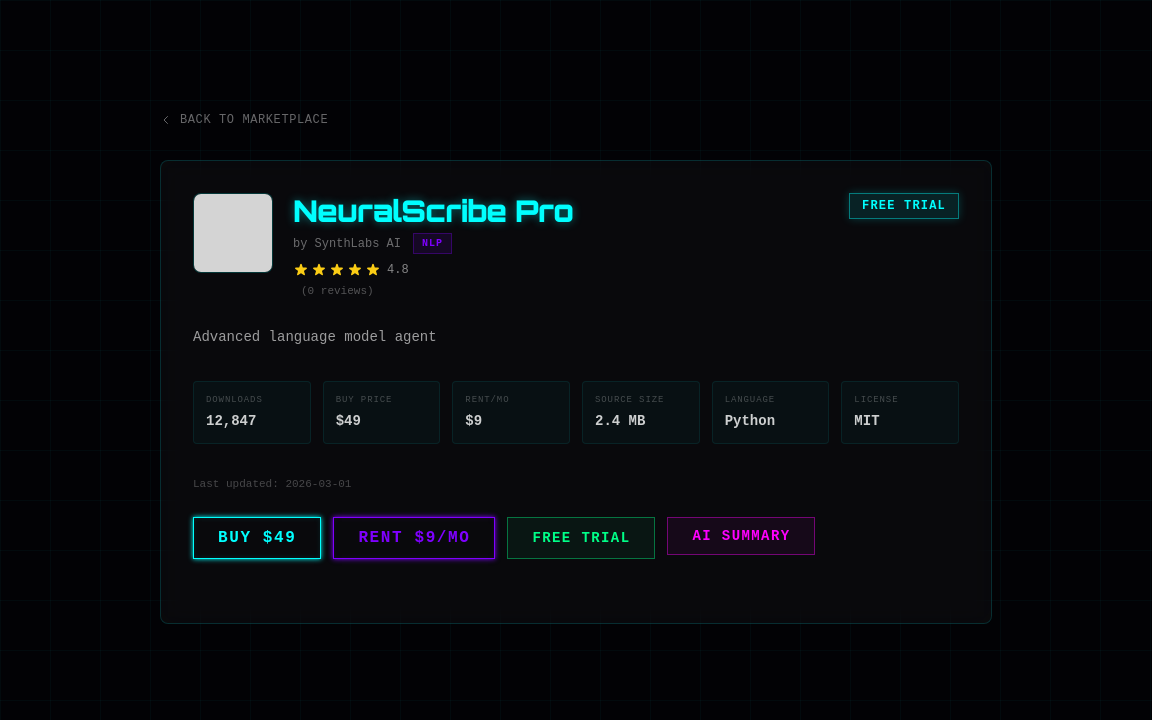
it: AgentDetail — trial purchase flow › shows Trial activated successfully! after clicking Free Trial as logged-in user
This screenshot has width=1152, height=720.
Expected: the button "Buy $49" is shown, [193,517,321,559]
Click the button "Free Trial".
click(582, 538)  # box [508,517,656,559]
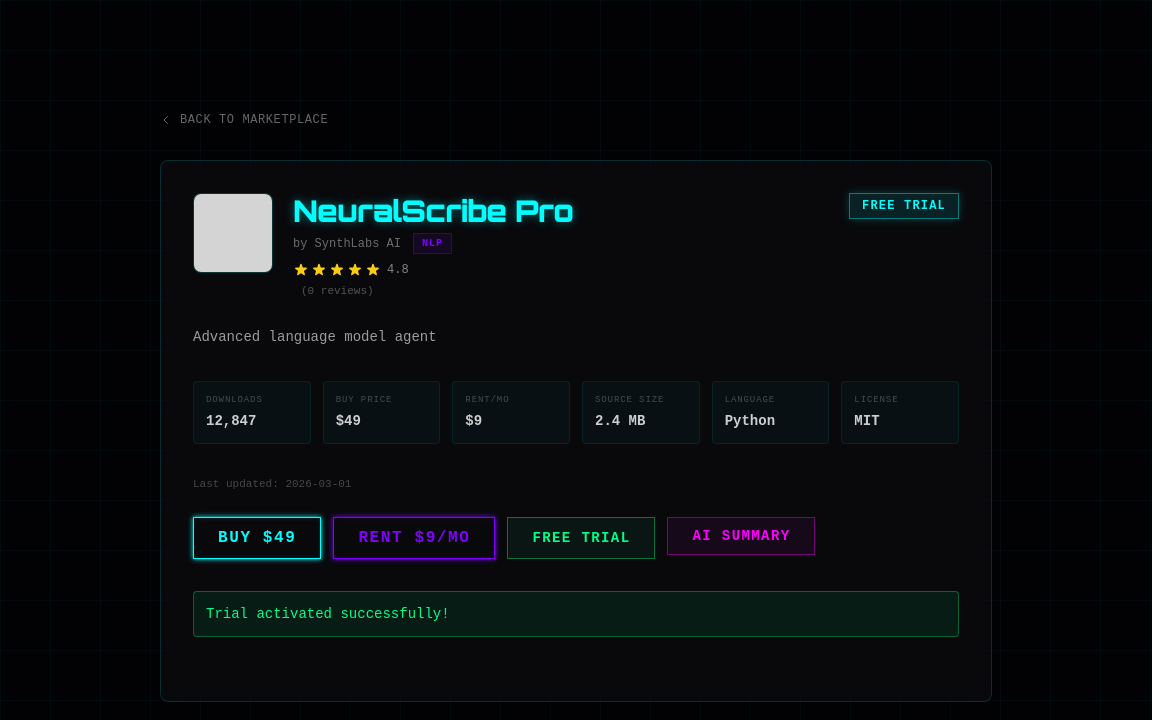
Now the text "Trial activated successfully!" is shown, box [193,591,959,637]
